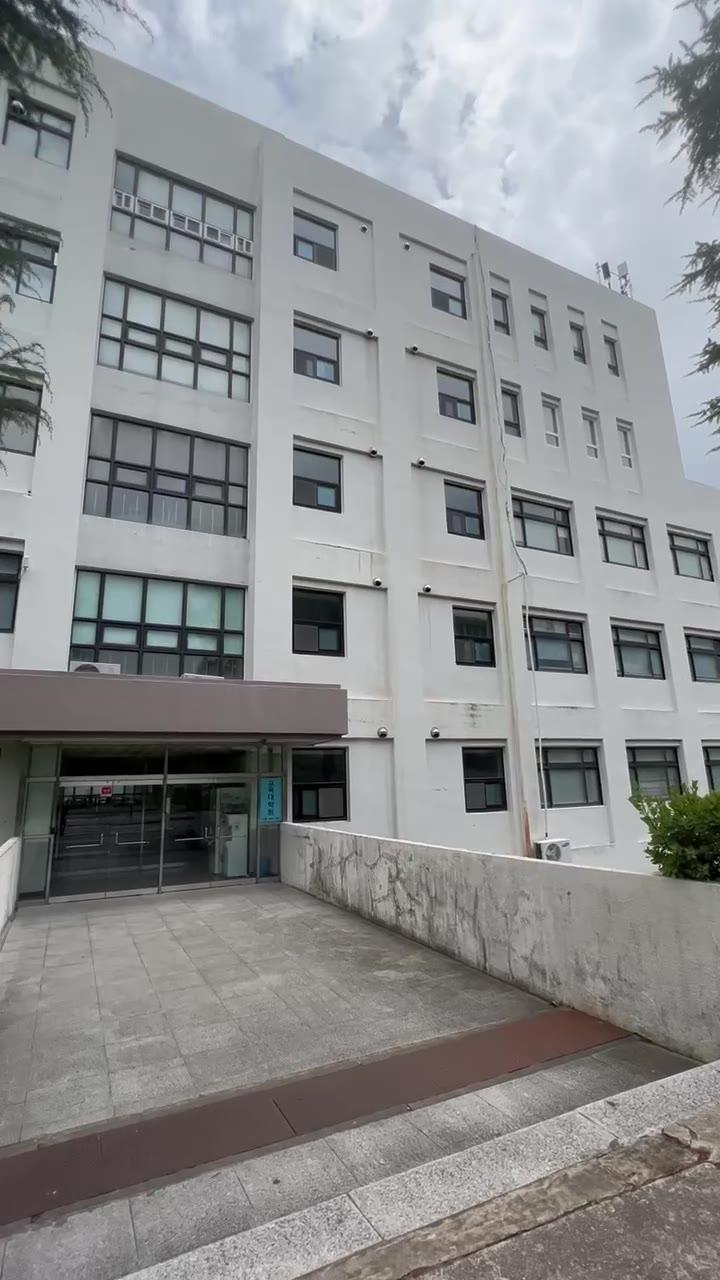building: (14, 162, 676, 944)
